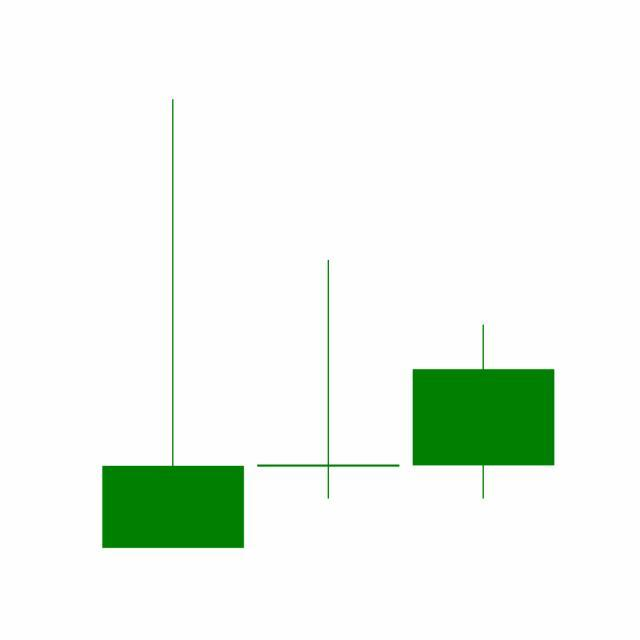Spinning Top: (250, 257, 407, 502)
